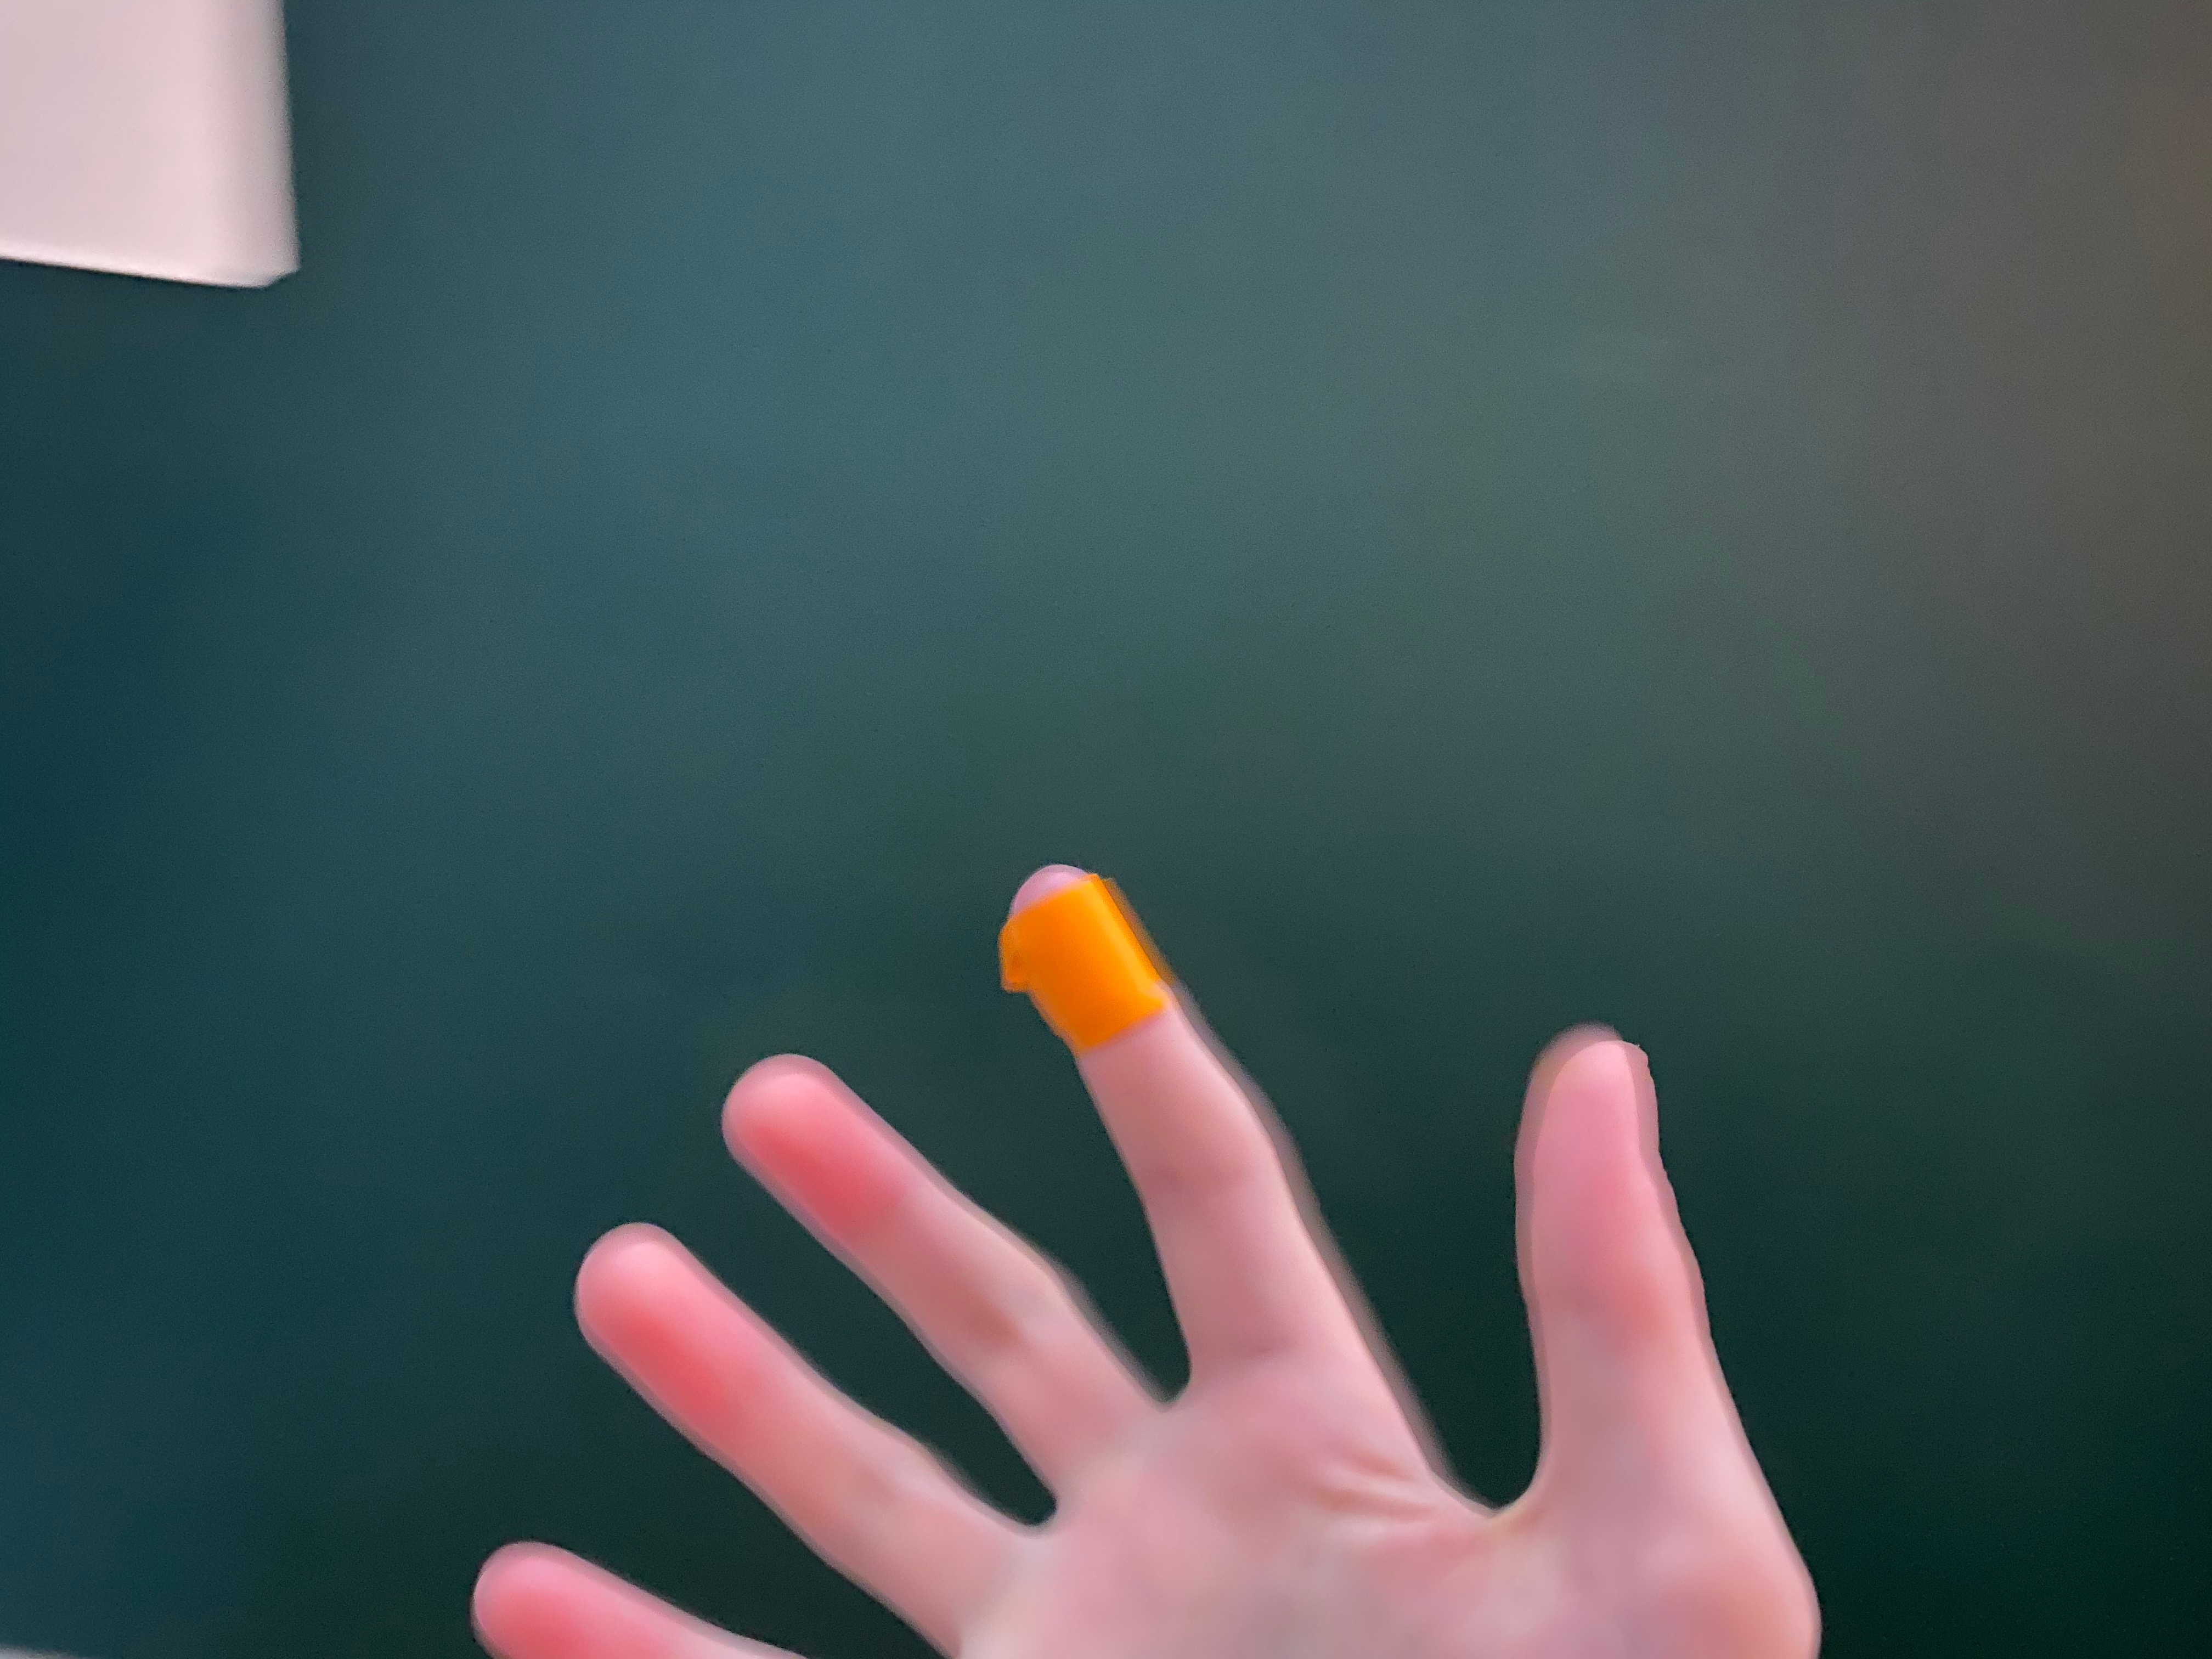fingertip: (935, 821, 1226, 1093)
